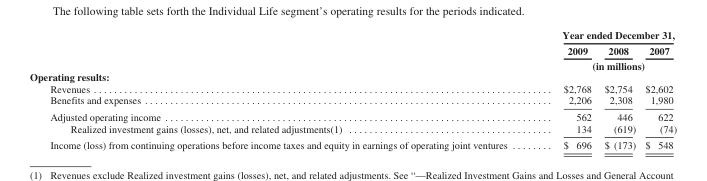table: (28, 28, 676, 150)
table column: (28, 28, 534, 150), (534, 28, 597, 150), (597, 28, 639, 150), (639, 28, 676, 150)
table column header: (28, 28, 676, 71)
table projected row header: (28, 71, 676, 82)
table row: (28, 42, 676, 57), (28, 28, 676, 42), (28, 57, 676, 71), (28, 94, 676, 108), (28, 108, 676, 122), (28, 122, 676, 136), (28, 136, 676, 150), (28, 82, 676, 94), (28, 71, 676, 82)
table spanning cell: (534, 28, 676, 42), (534, 57, 676, 71)
